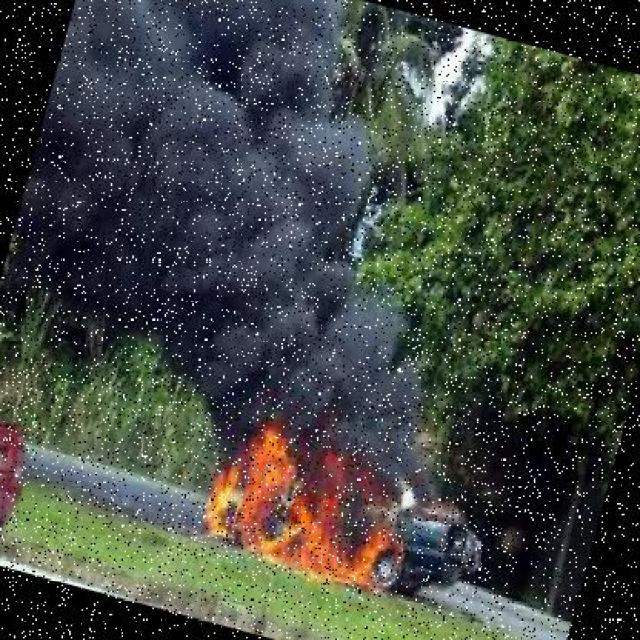fire: (184, 391, 436, 600)
